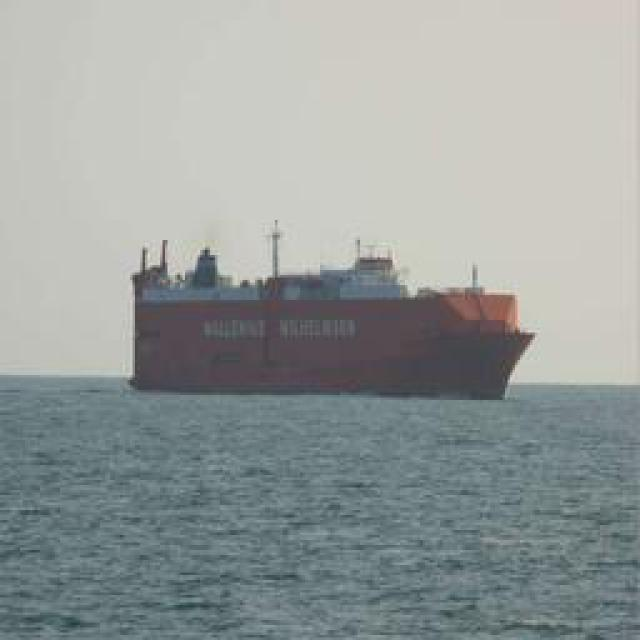Ship: (124, 235, 529, 395)
